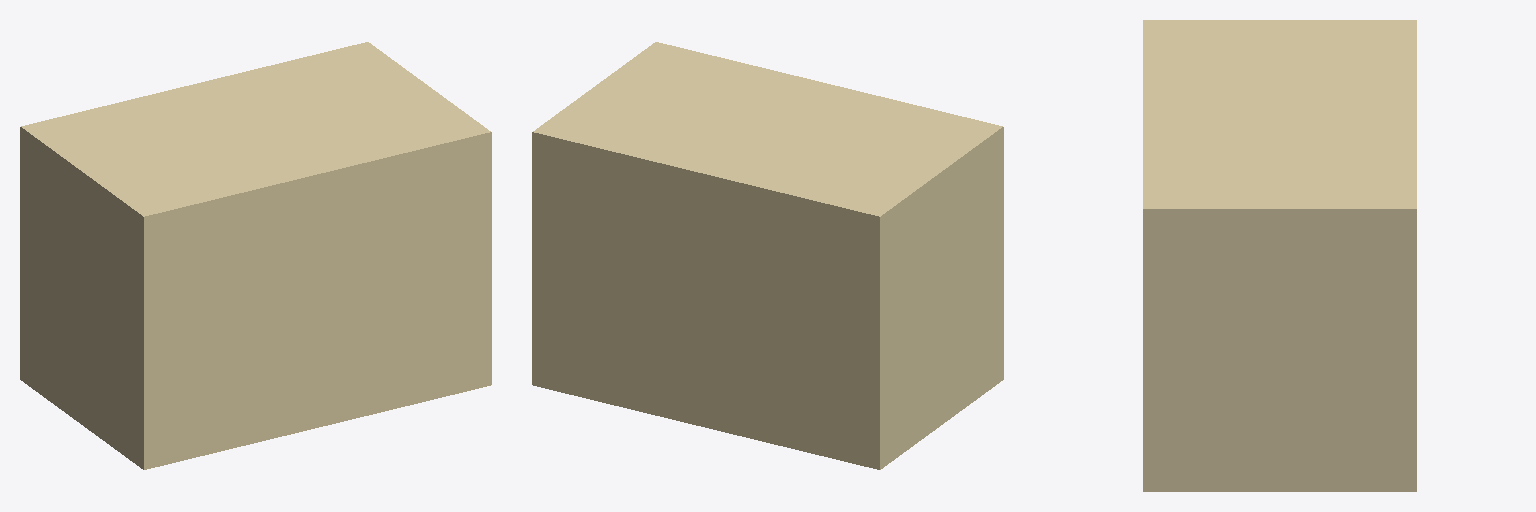
robot.urdf — box.urdf:
<?xml version="1.0" ?>
<robot name="box.urdf">
  <link name="baseLink">
    <contact>
      <lateral_friction value="1.0"/>
      <rolling_friction value="0.0001"/>
      <inertia_scaling value="3.0"/>
    </contact>
    <inertial>
      <origin rpy="0 0 0" xyz="0 0 0"/>
       <mass value="0.1"/>
       <inertia ixx="1" ixy="0" ixz="0" iyy="1" iyz="0" izz="1"/>
    </inertial>
    <visual>
      <origin rpy="0 0 0" xyz="0 0 0"/>
      <geometry>
        <!-- <box size="0.488 0.3 0.34"/> -->
        <mesh filename="box/box.obj" scale="0.488 0.3 0.34"/>
      </geometry>
      <material name="white">
        <color rgba="0.9 0.85 0.7 1"/>
      </material>
    </visual>
    <collision>
      <origin rpy="0 0 0" xyz="0 0 0"/>
      <geometry>
        <mesh filename="box/box.obj" scale="0.488 0.3 0.34"/>
	 	    <!-- <box size="0.488 0.3 0.34"/> -->
      </geometry>
    </collision>
  </link>
</robot>

--- Facts derived from the render (not from the file) ---
Views: 3 orthographic renders of the robot side by side, from view 1: azimuth 30°, elevation 25°; view 2: azimuth 150°, elevation 25°; view 3: azimuth 270°, elevation 25°.
Model box.urdf with 1 links and 0 joints (none), rooted at baseLink, posed every joint at zero.
Visible links, largest first — view 1: baseLink; view 2: baseLink; view 3: baseLink.
Link boxes in pixels (x1=…): baseLink: x1=20, y1=42, x2=491, y2=469; baseLink: x1=532, y1=42, x2=1003, y2=469; baseLink: x1=1143, y1=20, x2=1416, y2=491.
Bounding box of the posed robot: 0.488 × 0.3 × 0.34 m (x, y, z).
Meshes: 1 distinct files referenced, 1 mesh visuals loaded (1 OBJ).
